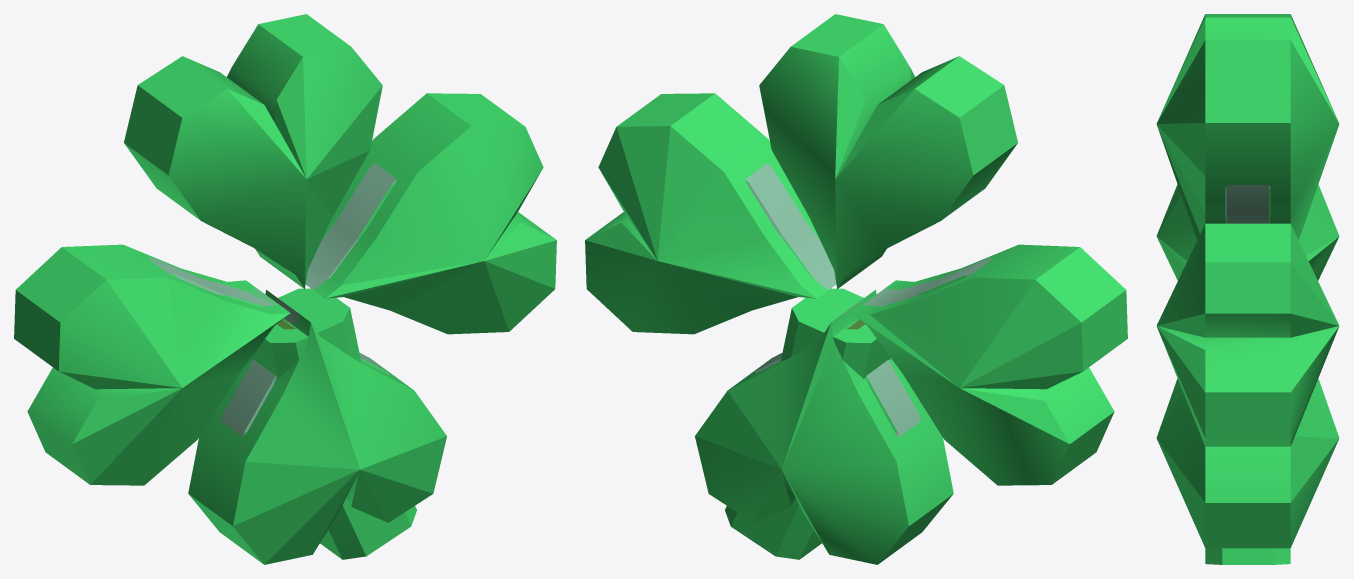
Rendered from 97d_fragment_trefle.fbx.
The picture shows the model from 3 angles, left to right: view 1: azimuth 30°, elevation 25°; view 2: azimuth 150°, elevation 25°; view 3: azimuth 270°, elevation 25°; orthographic projection. The views are drawn at different scales.
Parts seen in each view (by area): view 1: Lueur, Fragment; view 2: Lueur, Fragment; view 3: Lueur, Fragment.
Part boxes in pixels (box(x1,y1,x2,y2)): Lueur: box(14, 14, 556, 564); Fragment: box(148, 163, 396, 436); Lueur: box(585, 14, 1127, 564); Fragment: box(745, 163, 993, 436); Lueur: box(1156, 14, 1339, 564); Fragment: box(1225, 185, 1270, 223).
Size of the model in its own units: 0.252 by 0.252 by 0.084.
1 material, 1 textured.
